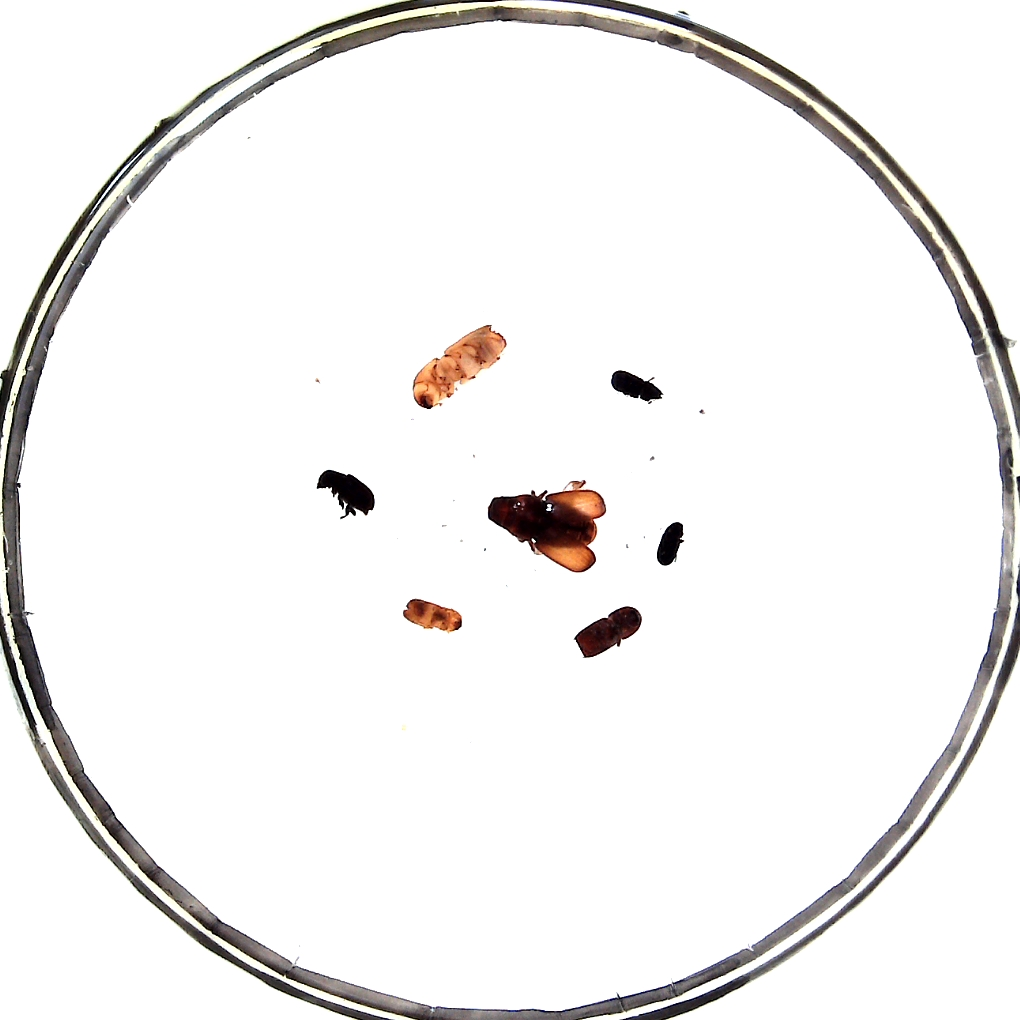Boerner: (410, 328, 507, 413)
Leconte: (486, 490, 603, 576)
Linnaeus: (570, 603, 643, 657)
acuminatus: (403, 598, 461, 637)
armandi: (316, 469, 375, 516)
coleoptera: (610, 369, 667, 401), (655, 521, 685, 567)
